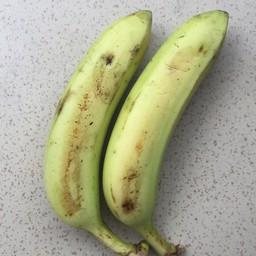Good_banana: (34, 6, 147, 256), (102, 7, 230, 223), (42, 10, 140, 227)
